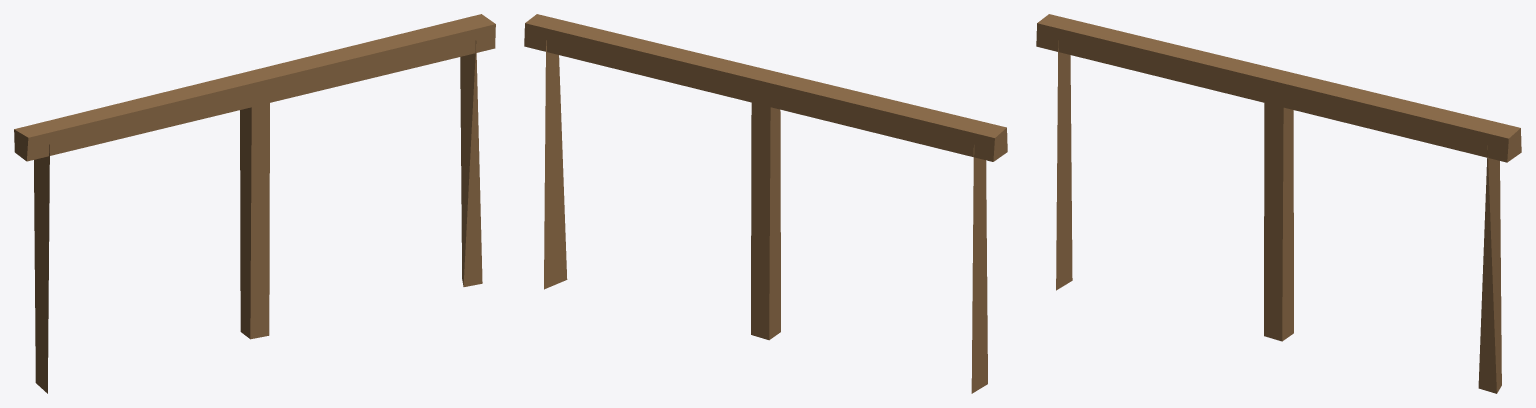
Rendered from harbor-railing.lod2.glb.
The picture shows the model from 3 angles, left to right: view 1: azimuth 30°, elevation 25°; view 2: azimuth 150°, elevation 25°; view 3: azimuth 330°, elevation 25°; orthographic projection.
Parts seen in each view (by area): view 1: harbor-railing__body; view 2: harbor-railing__body; view 3: harbor-railing__body.
Boxes of the visible parts, left/top/right/bottom form: harbor-railing__body: left=14, top=14, right=495, bottom=393; harbor-railing__body: left=524, top=14, right=1007, bottom=393; harbor-railing__body: left=1036, top=14, right=1521, bottom=393.
Bounding box in the file's own units: 1.98 × 1.05 × 0.1038.
